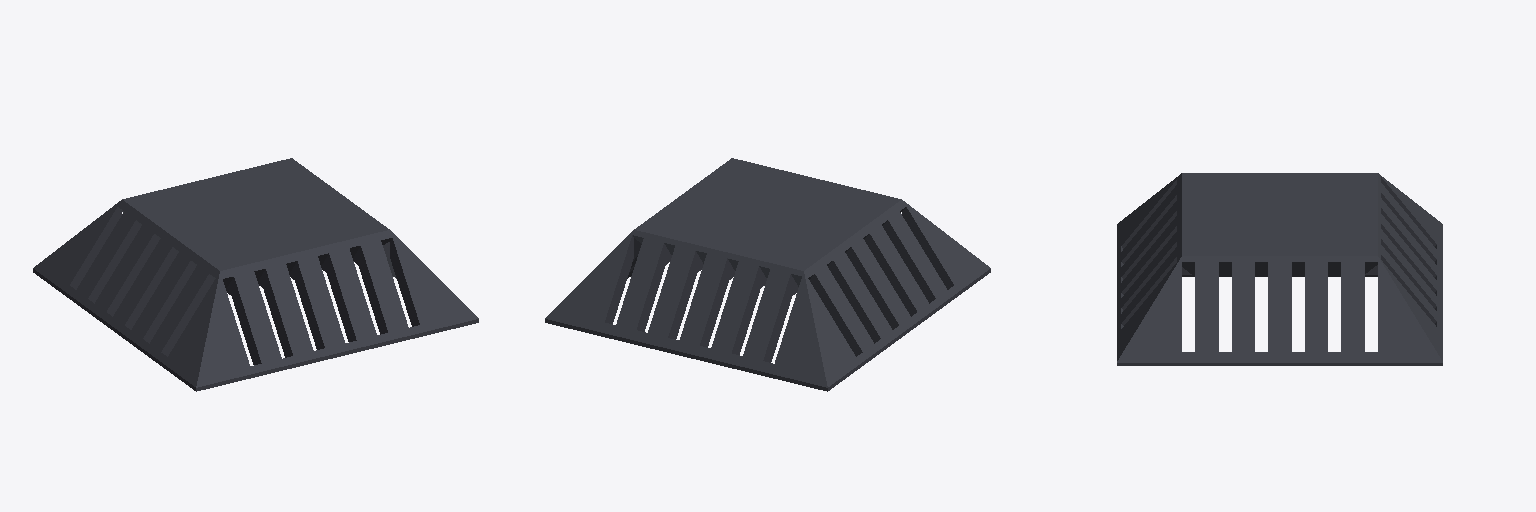
Rendered from Drain.obj.
3 views of the same model, side by side, from view 1: azimuth 30°, elevation 25°; view 2: azimuth 150°, elevation 25°; view 3: azimuth 270°, elevation 25° (orthographic).
Parts seen in each view (by area): view 1: Drain; view 2: Drain; view 3: Drain.
Part boxes in pixels (bbox=[...]): Drain: bbox=[33, 158, 478, 391]; Drain: bbox=[545, 158, 990, 391]; Drain: bbox=[1117, 173, 1442, 365].
Bounding box in the file's own units: 37.5 × 10.5 × 37.5.